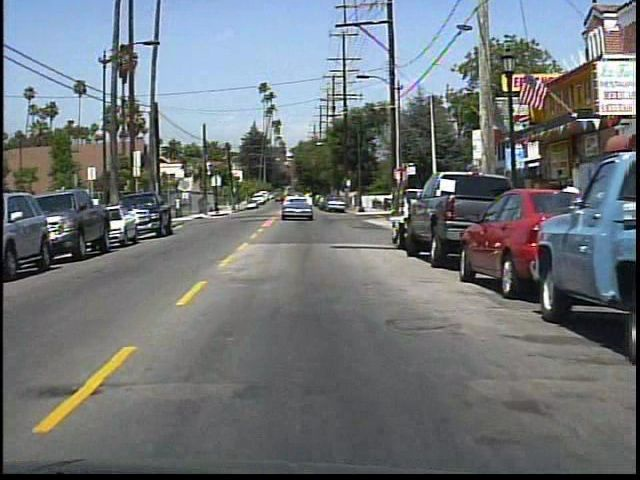person: (557, 175, 585, 244)
